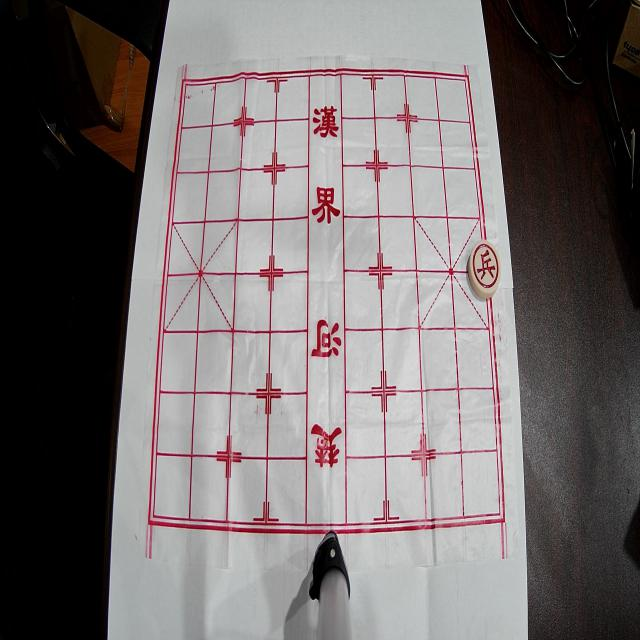red-soldier: (468, 240, 502, 299)
